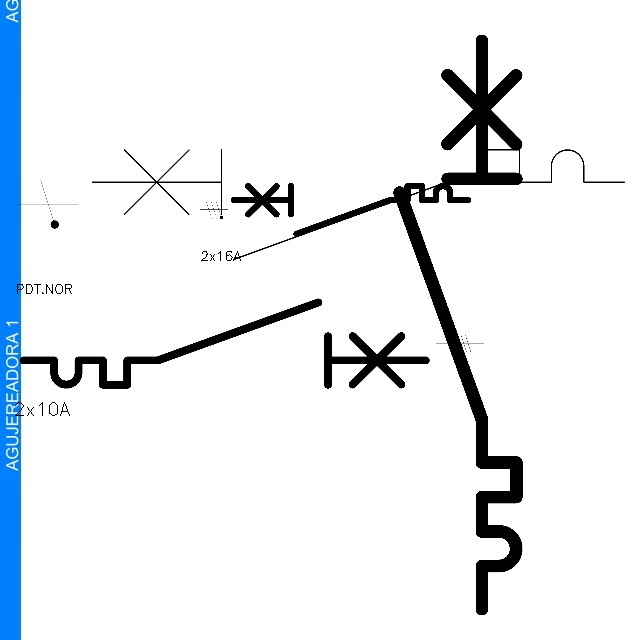interruptor_termomagnetico: (385, 26, 531, 624), (78, 136, 638, 273), (13, 292, 436, 395), (227, 180, 473, 240)
